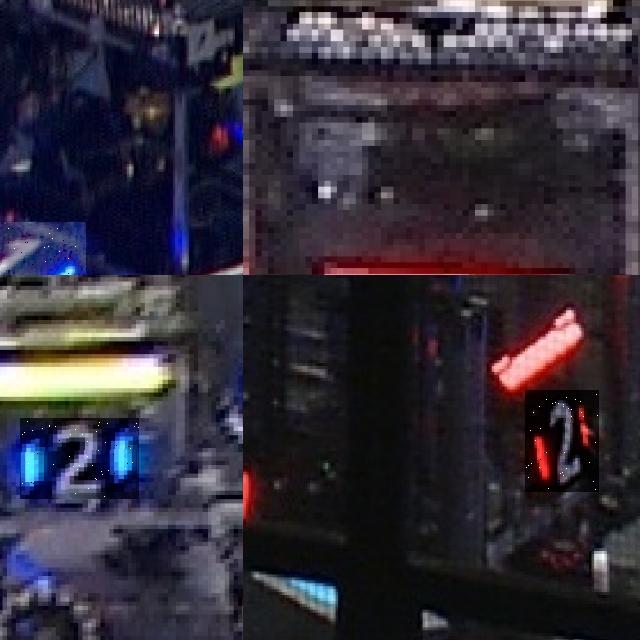B1: (0, 222, 86, 275)
B2: (21, 418, 140, 499)
R2: (525, 390, 599, 492)
